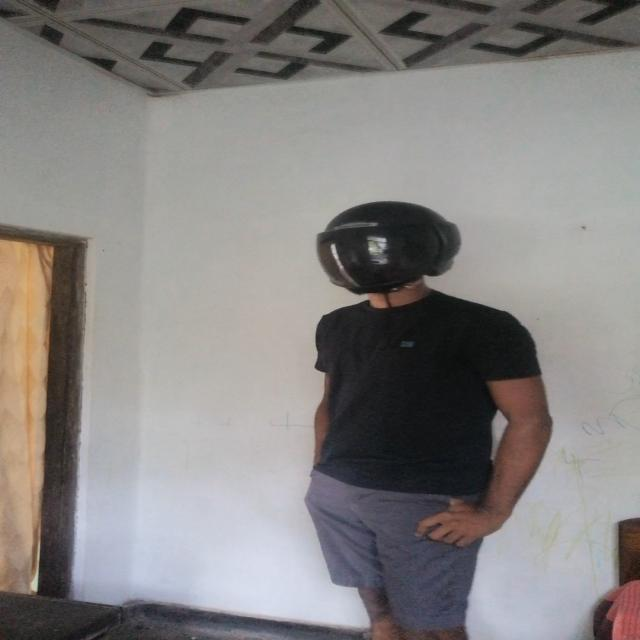Helmet_Wearer: (314, 194, 468, 316)
Person: (287, 192, 554, 640)
